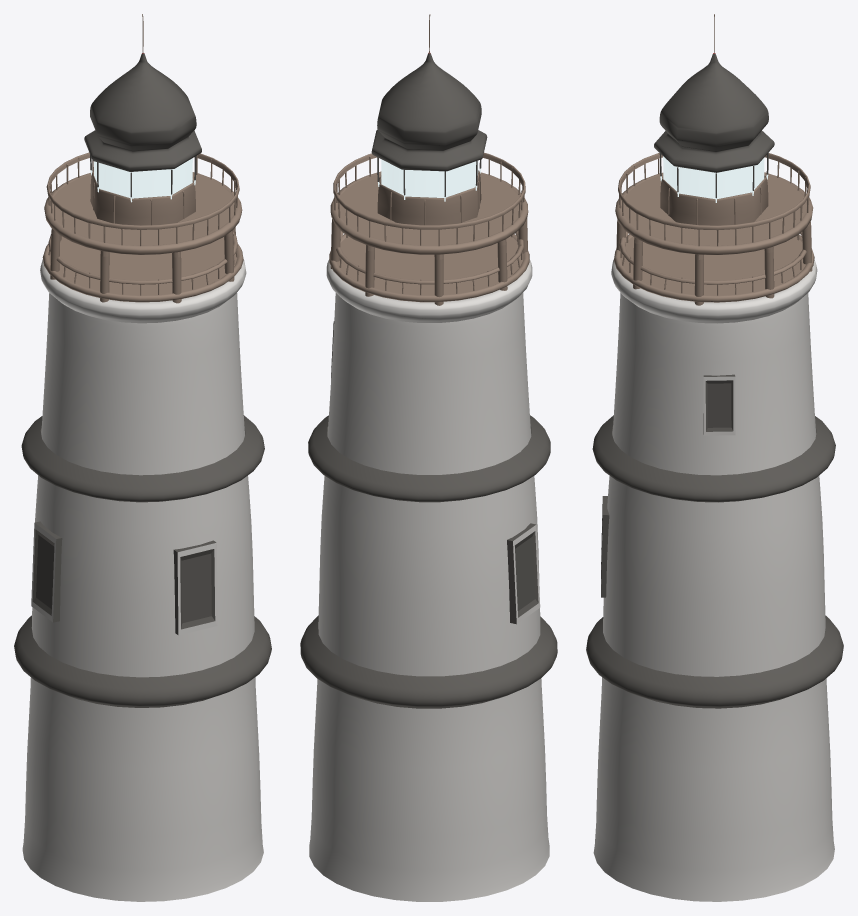
Rendered from LightHouse2.fbx.
3 renders of one model, left to right at view 1: azimuth 30°, elevation 25°; view 2: azimuth 150°, elevation 25°; view 3: azimuth 270°, elevation 25°, orthographic.
Parts seen in each view (by area): view 1: polySurface1; view 2: polySurface1; view 3: polySurface1.
Boxes of the visible parts, x1,y1,x2,y2 form: polySurface1: [14, 14, 271, 901]; polySurface1: [300, 14, 557, 901]; polySurface1: [586, 14, 843, 901].
Bounding box in the file's own units: 19.97 × 71.47 × 19.96.
